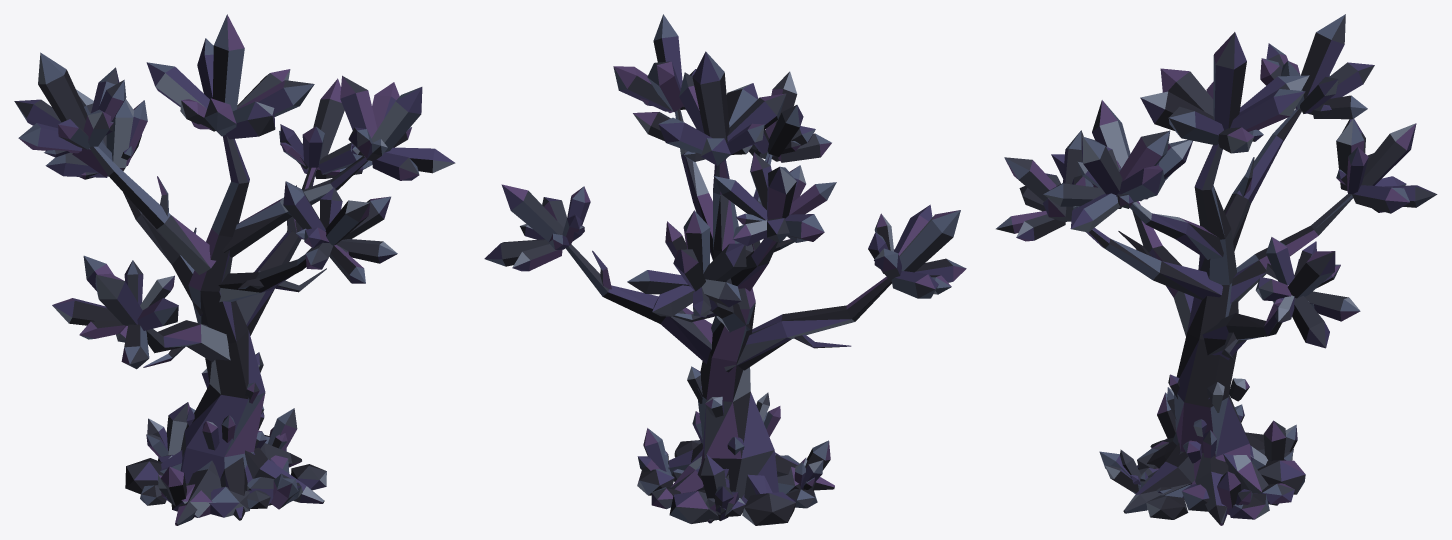
Rendered from Obsidian_tree-CHK0mtUP.glb.
The picture shows the model from 3 angles, left to right: view 1: azimuth 30°, elevation 25°; view 2: azimuth 150°, elevation 25°; view 3: azimuth 270°, elevation 25°; orthographic projection. The views are drawn at different scales.
Visible parts, largest first — view 1: Obsidian Tree; view 2: Obsidian Tree; view 3: Obsidian Tree.
Boxes of the visible parts, x1,y1,x2,y2 form: Obsidian Tree: [14, 14, 455, 525]; Obsidian Tree: [484, 14, 966, 525]; Obsidian Tree: [996, 14, 1437, 525].
Size of the model in its own units: 5.51 by 6.32 by 5.39.
